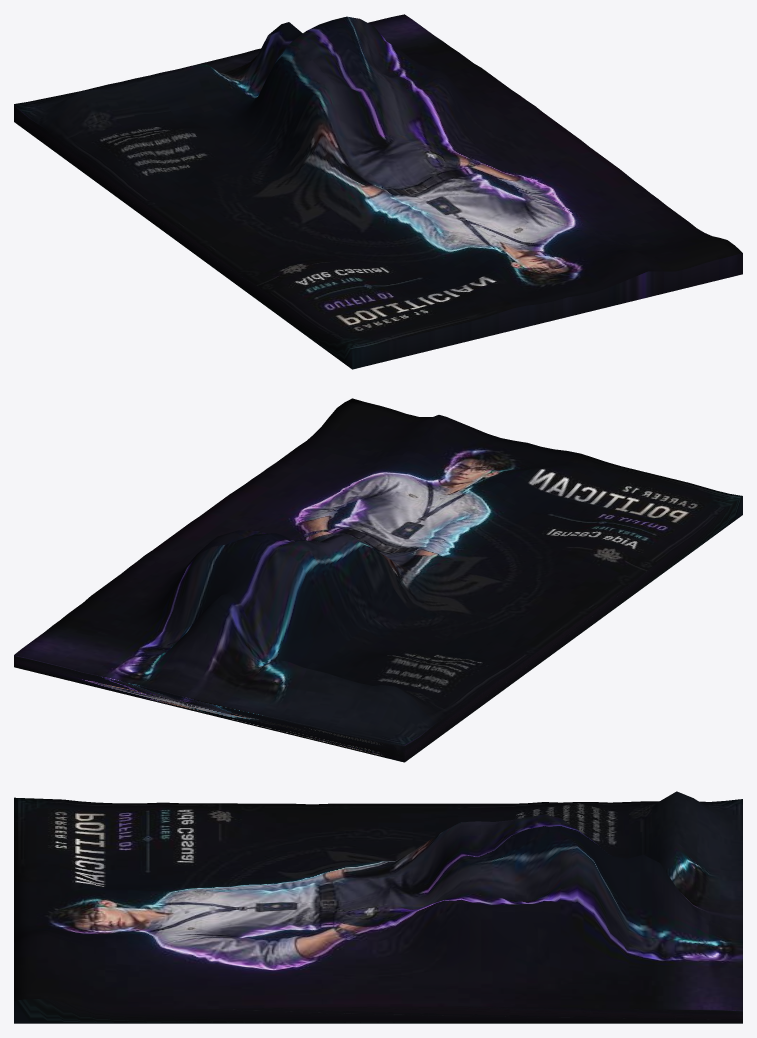
Rendered from CAREER_12_Outfit_01_Entry.glb.
The picture shows the model from 3 angles, top to bottom: view 1: azimuth 30°, elevation 25°; view 2: azimuth 150°, elevation 25°; view 3: azimuth 270°, elevation 25°; orthographic projection. The views are drawn at different scales.
Visible parts, largest first — view 1: CAREER_12_Outfit_01_Entry; view 2: CAREER_12_Outfit_01_Entry; view 3: CAREER_12_Outfit_01_Entry.
Part boxes in pixels (x1=…): CAREER_12_Outfit_01_Entry: x1=14, y1=14, x2=742, y2=369; CAREER_12_Outfit_01_Entry: x1=14, y1=398, x2=742, y2=762; CAREER_12_Outfit_01_Entry: x1=14, y1=791, x2=742, y2=1023.
Bounding box in the file's own units: 2 × 0.51 × 3.
1 material, 1 textured.
